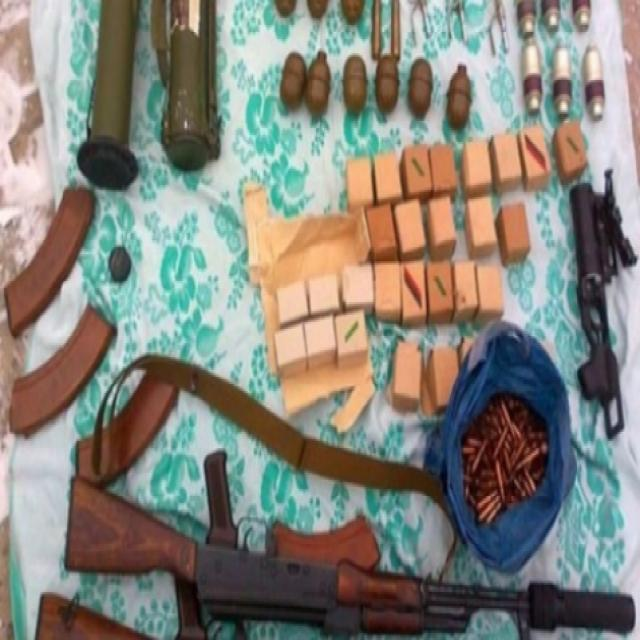firearm: (65, 450, 636, 640), (568, 172, 636, 439)
grenade: (448, 52, 485, 114), (371, 51, 402, 113), (341, 49, 370, 115), (405, 50, 434, 116), (304, 48, 330, 119), (583, 45, 606, 122), (281, 54, 307, 113), (524, 40, 543, 114), (553, 52, 573, 116), (519, 0, 535, 39), (575, 0, 592, 33), (544, 0, 561, 33)
rocket: (77, 0, 142, 185), (155, 0, 221, 171)
